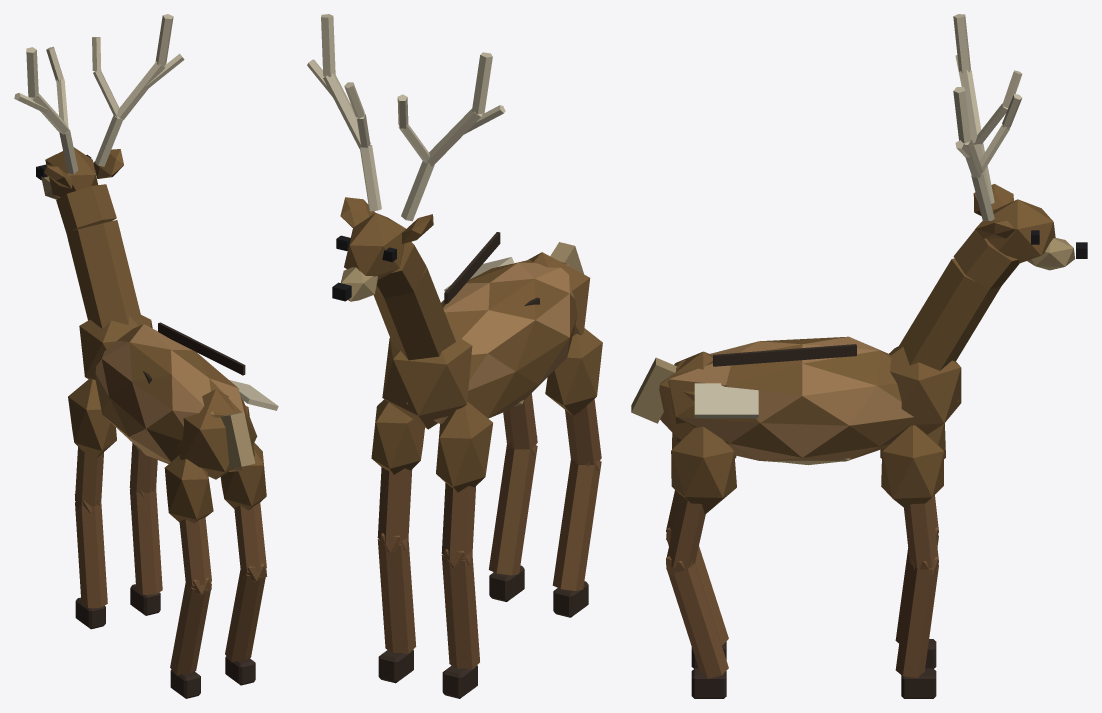
File: animal_deer.fbx
3 views of the same model, side by side, from view 1: azimuth 30°, elevation 25°; view 2: azimuth 150°, elevation 25°; view 3: azimuth 270°, elevation 25° (orthographic). The views are drawn at different scales.
Parts seen in each view (by area): view 1: Torso, Head, Hindleg_L, Foreleg_L, Hindleg_R, Foreleg_R; view 2: Torso, Head, Foreleg_L, Hindleg_L, Foreleg_R, Hindleg_R; view 3: Torso, Head, Hindleg_R, Foreleg_R, Hindleg_L, Foreleg_L.
Boxes of the visible parts, bbox=[...] form: Torso: bbox=[79, 315, 278, 479]; Head: bbox=[14, 14, 184, 328]; Hindleg_L: bbox=[164, 455, 213, 698]; Foreleg_L: bbox=[68, 379, 116, 629]; Hindleg_R: bbox=[220, 443, 267, 685]; Foreleg_R: bbox=[129, 443, 162, 615]; Torso: bbox=[382, 232, 590, 429]; Head: bbox=[307, 14, 505, 360]; Foreleg_L: bbox=[436, 402, 492, 698]; Hindleg_L: bbox=[545, 328, 602, 617]; Foreleg_R: bbox=[371, 399, 424, 683]; Hindleg_R: bbox=[488, 393, 537, 601]; Torso: bbox=[631, 336, 961, 465]; Head: bbox=[896, 14, 1087, 370]; Hindleg_R: bbox=[666, 426, 736, 698]; Foreleg_R: bbox=[881, 425, 944, 698]; Hindleg_L: bbox=[666, 433, 736, 668]; Foreleg_L: bbox=[880, 423, 945, 668].
Size of the model in its own units: 0.7384 by 2.38 by 1.57.
